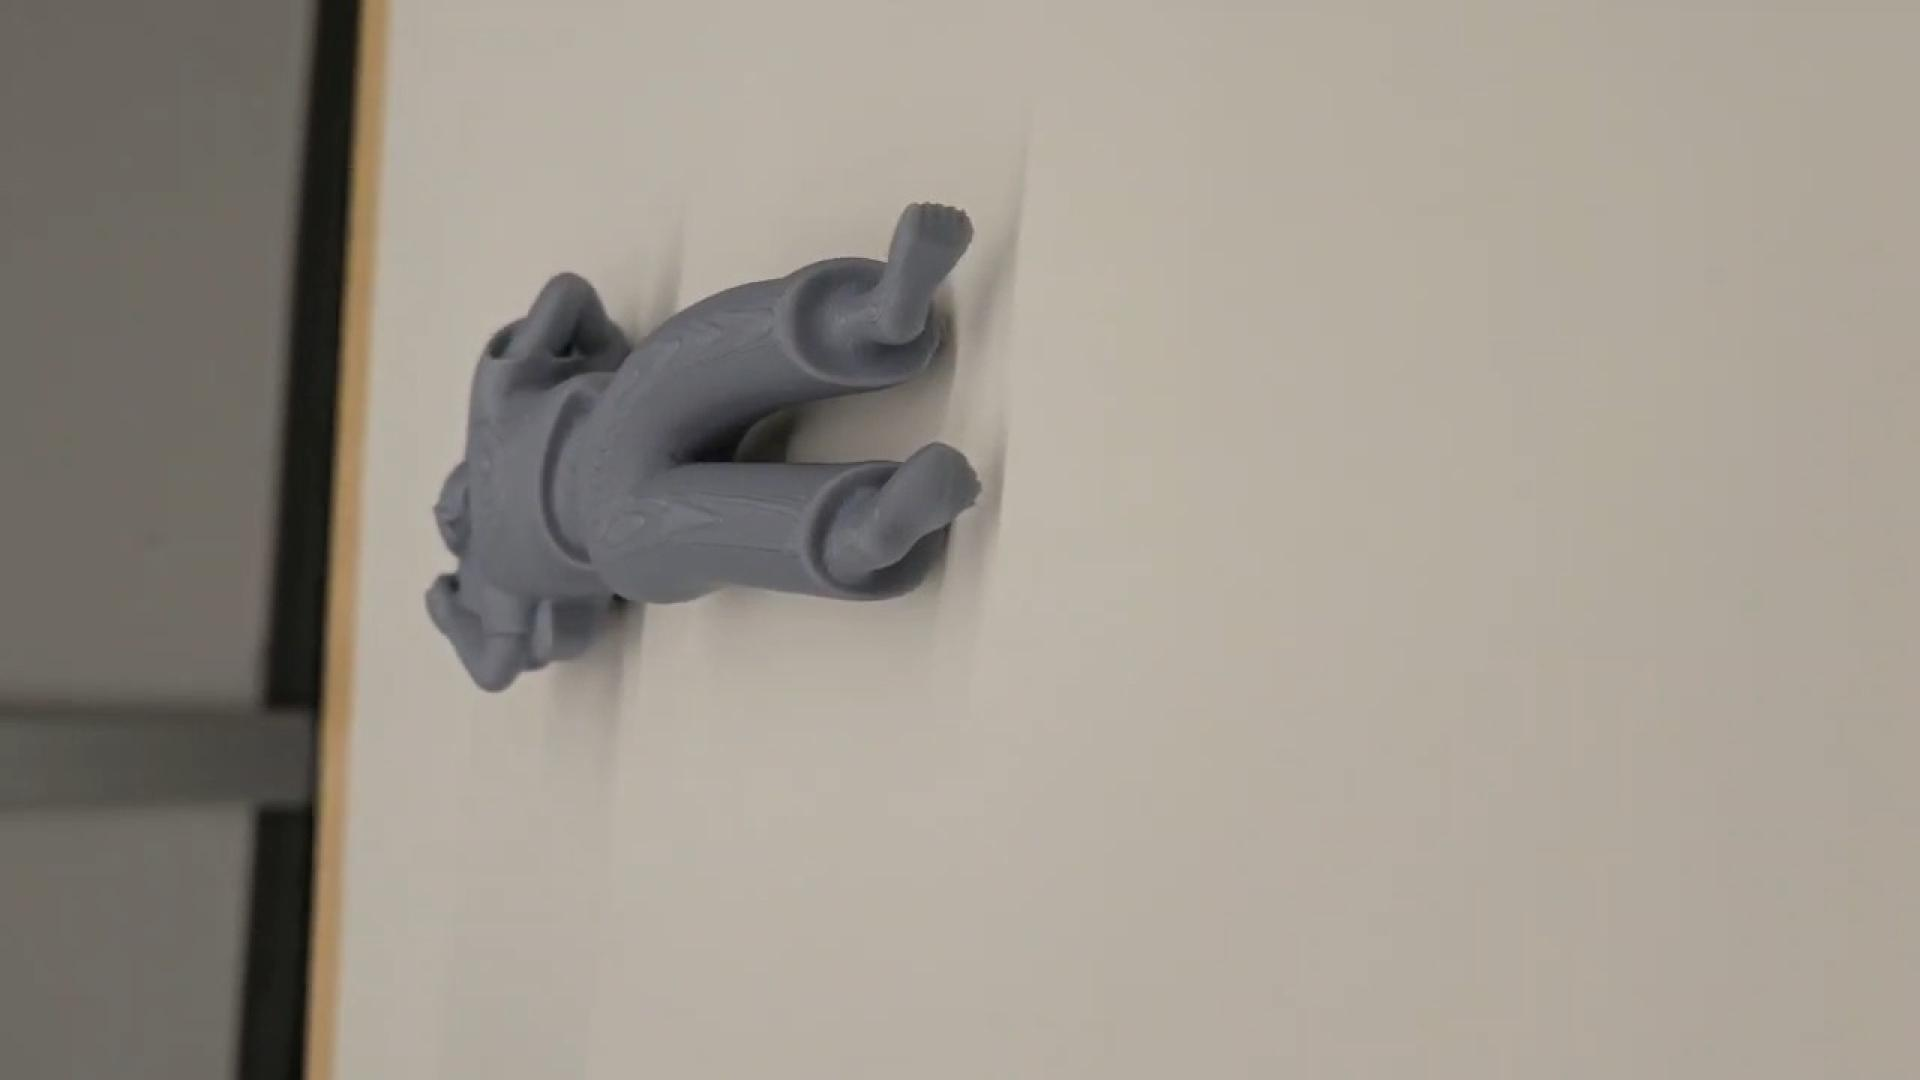Bad-style: (427, 198, 997, 705)
